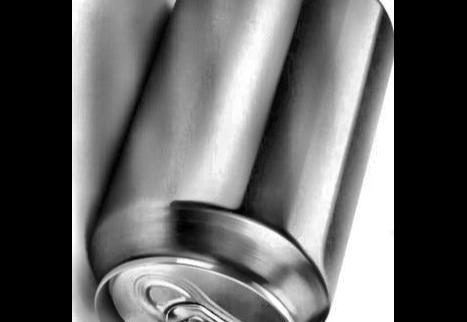can: (88, 0, 394, 322)
